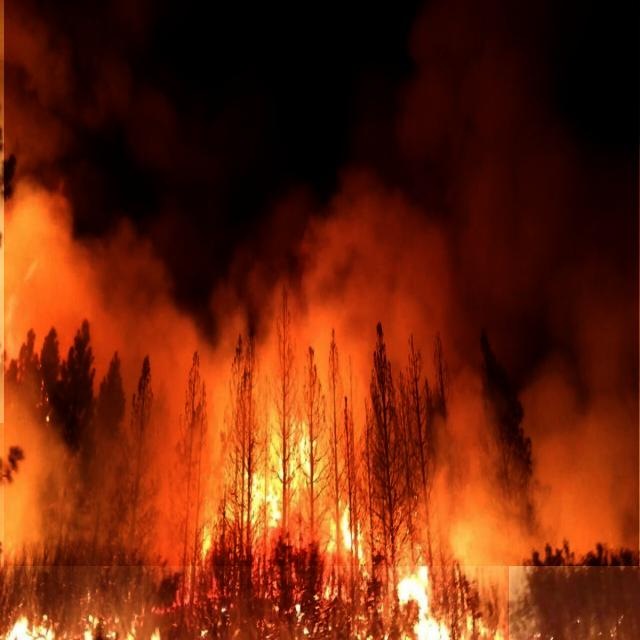Fire: (0, 423, 509, 640)
Smoke: (4, 0, 639, 566)
